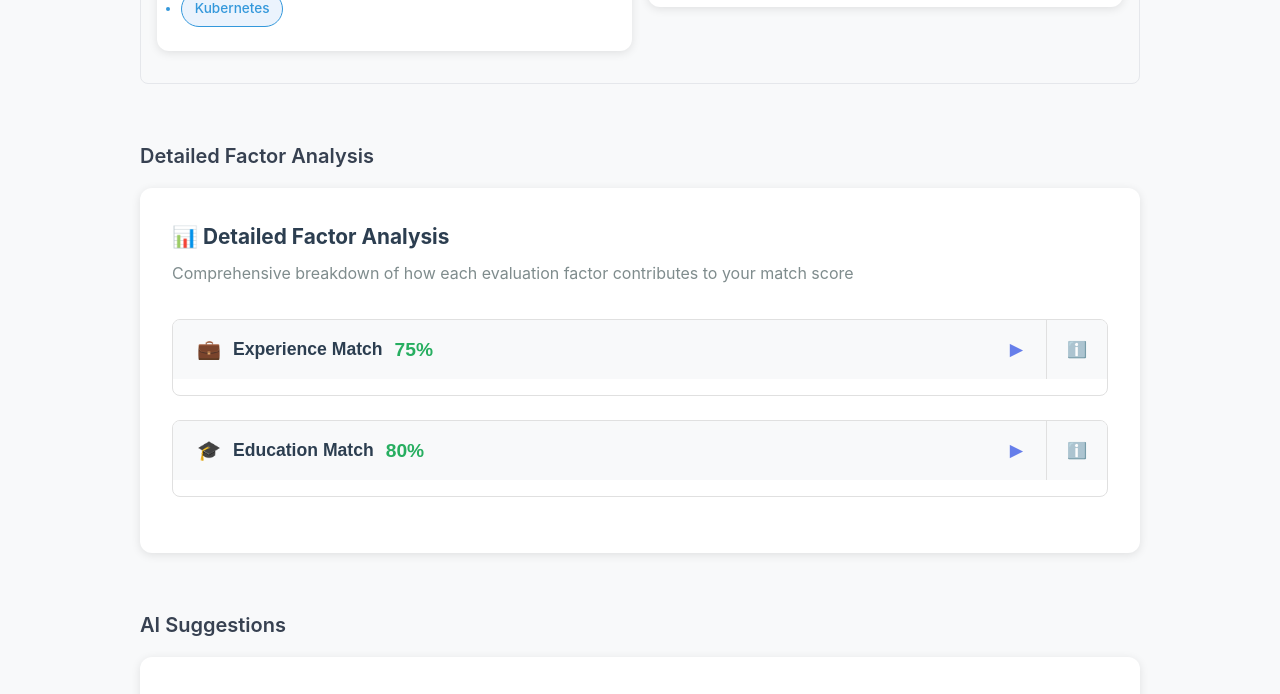
Test: Results Factor Details Tests › when showDetailedFactors is true › displays experience details correctly when expanded
(page scrolled)
Click the button "💼 Experience Match 75% ▶".
click(308, 349)  # box [173,322,1046,377]
(page scrolled)
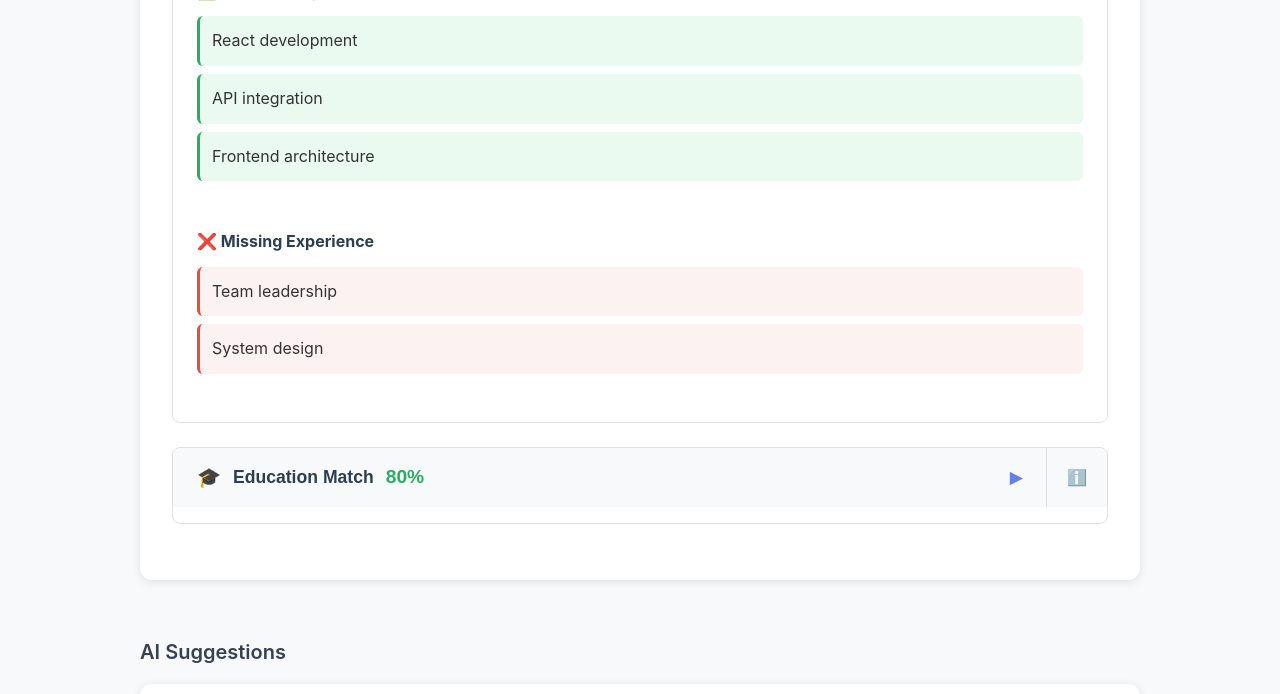
Now the list item "React development" is shown, box [197,16,1083,66]
Now the list item "API integration" is shown, box [197,74,1083,124]
Now the list item "Frontend architecture" is shown, box [197,132,1083,181]
